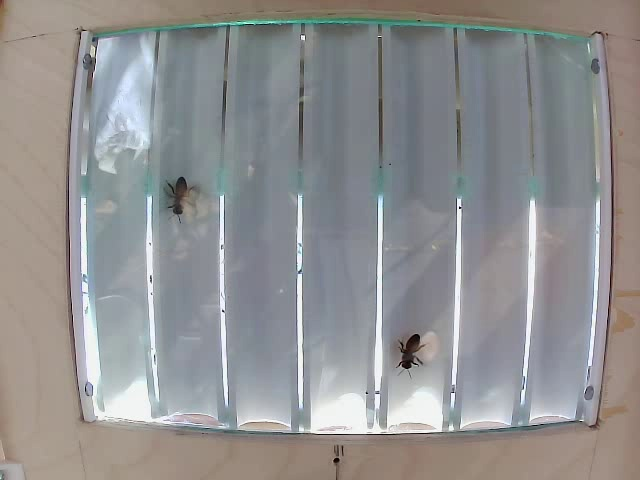bee: (164, 176, 201, 225), (399, 331, 430, 373)
